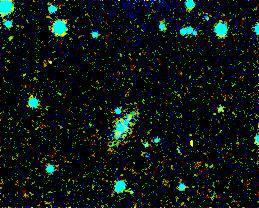star: (175, 131, 205, 161)
